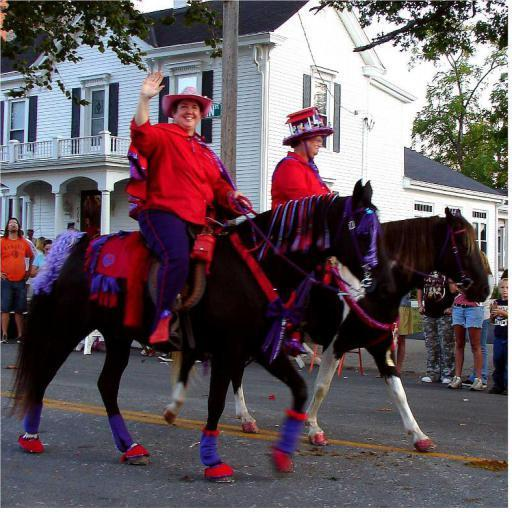horse: (0, 177, 395, 484), (162, 203, 492, 455)
